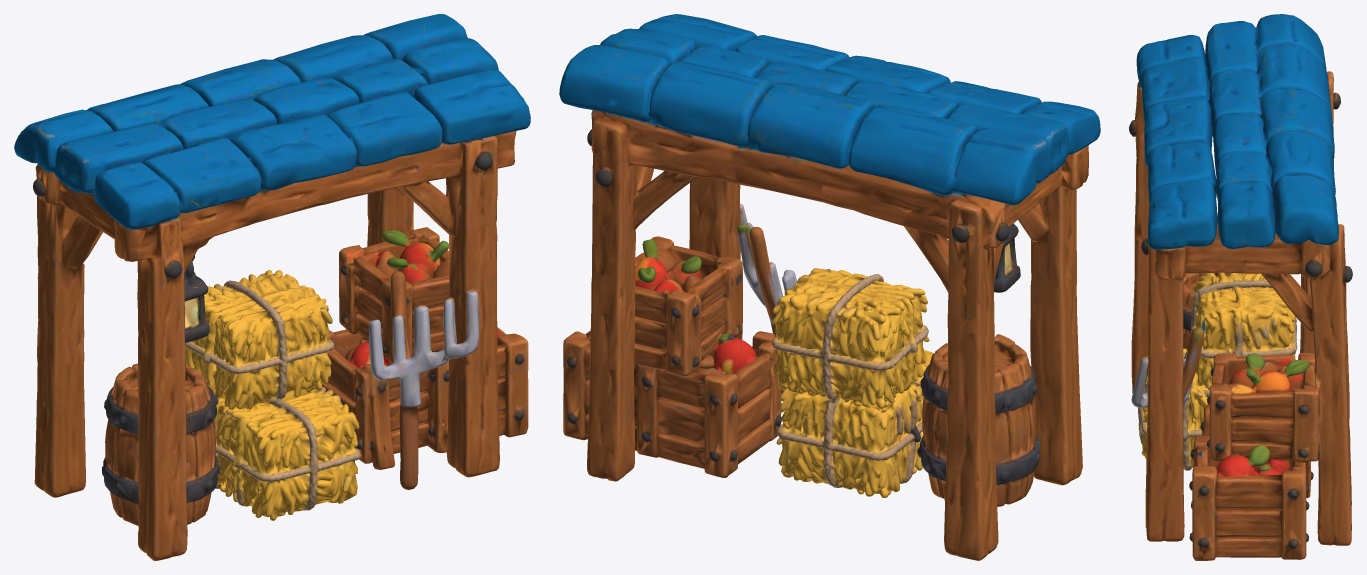
File: tool-shed.glb
3 renders of one model, left to right at view 1: azimuth 30°, elevation 25°; view 2: azimuth 150°, elevation 25°; view 3: azimuth 270°, elevation 25°, orthographic. The views are drawn at different scales.
Bounding box in the file's own units: 1.9 × 1.56 × 0.8881.
Materials: 1 (1 with a texture image).
